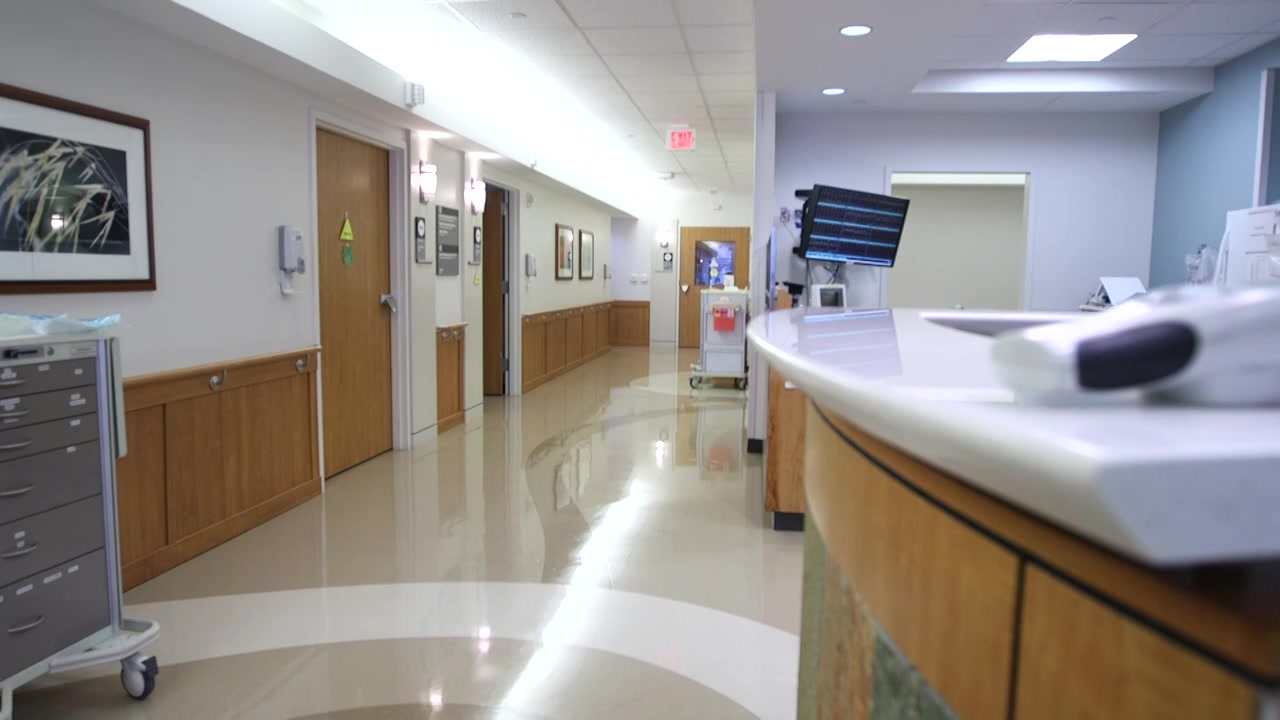TV: (801, 182, 910, 270)
countertop: (748, 309, 1280, 571)
dispenser: (277, 225, 306, 296), (526, 252, 539, 278)
door_handle: (381, 294, 400, 315)
handle: (1, 612, 44, 634), (1, 543, 40, 561), (1, 437, 32, 455), (1, 483, 36, 498), (1, 405, 30, 420), (1, 374, 26, 390)
medical_drawer: (1, 316, 162, 720), (697, 286, 746, 385)
